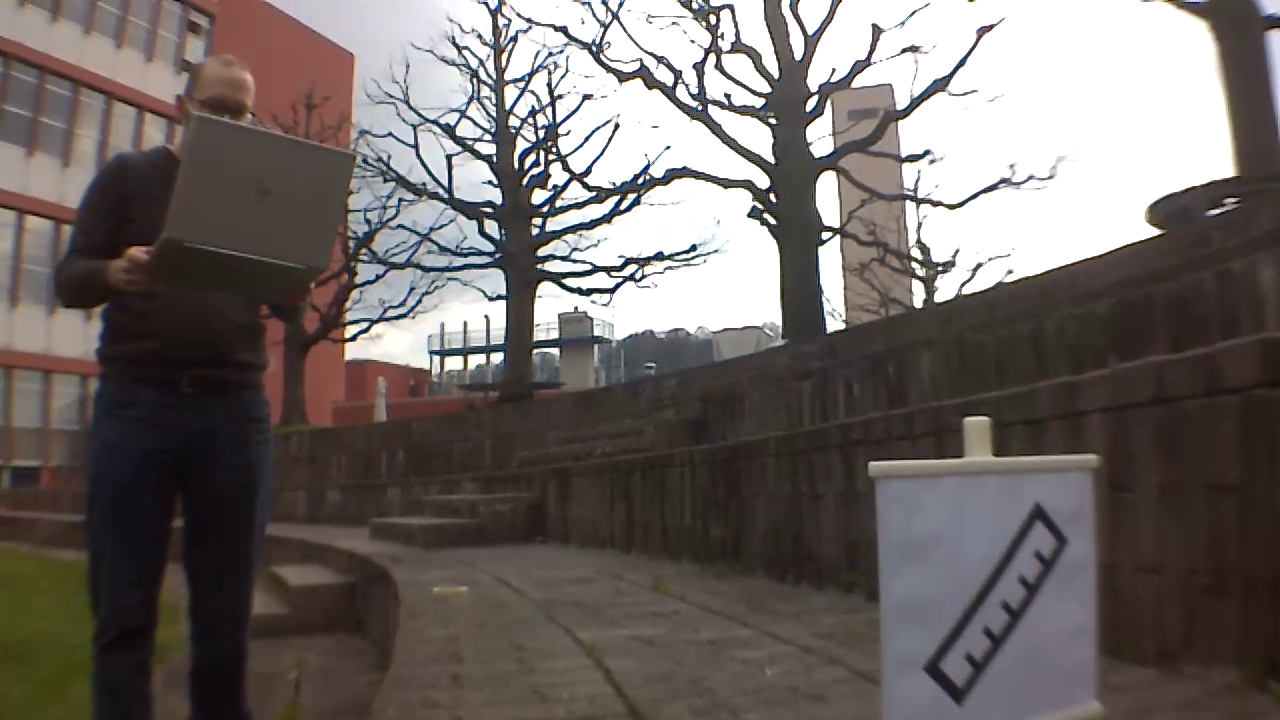ruler: (917, 498, 1077, 705)
